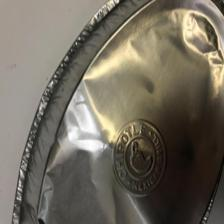metal: (9, 2, 224, 224)
